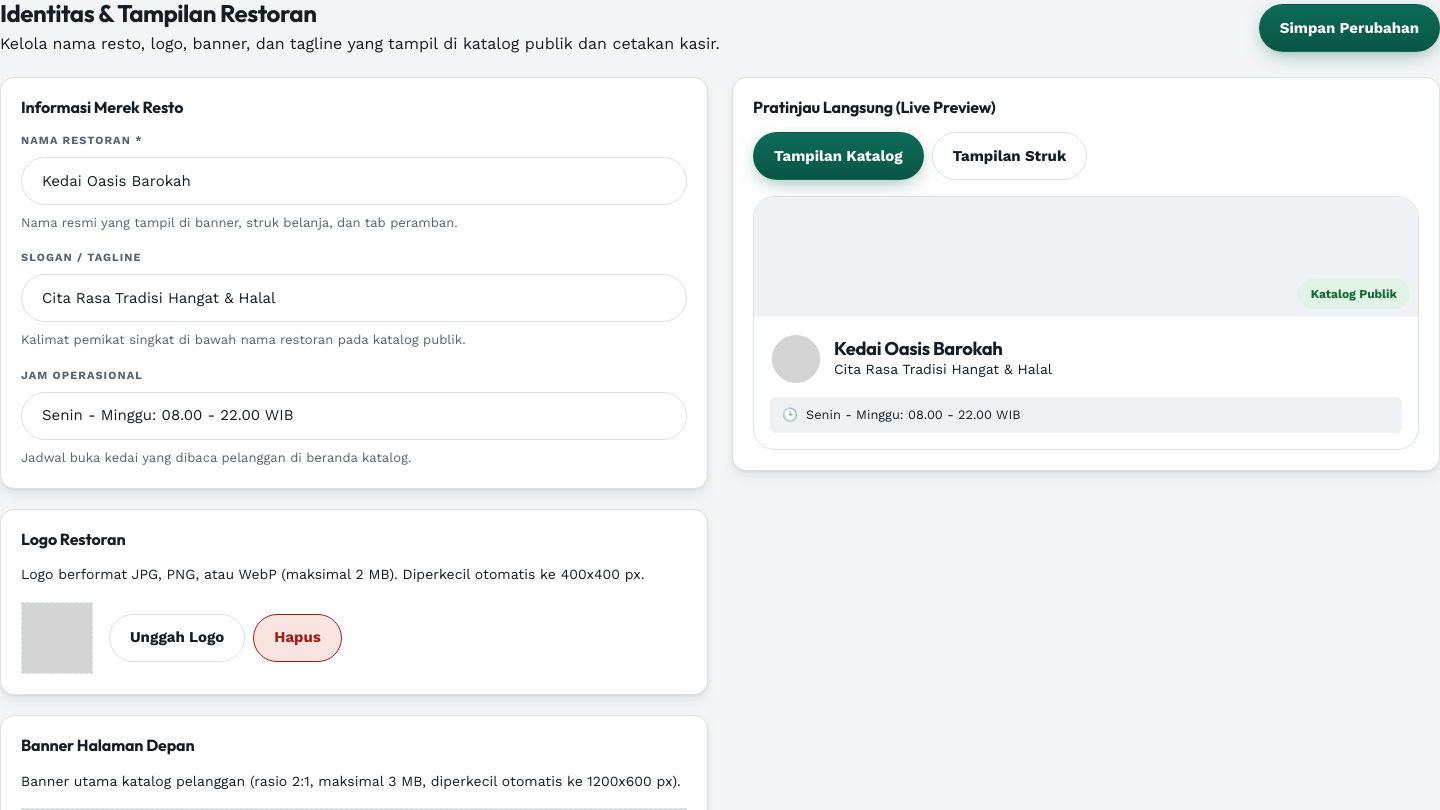
Test case: Identitas (Pengaturan Identitas & Tampilan Resto — T9-01) › beralih antara pratinjau katalog dan pratinjau struk
Expected: the element with test id "wadah-pratinjau-katalog" is shown, [753,196,1419,450]
Expected: the heading with test id "teks-nama-pratinjau" reads "Kedai Oasis Barokah", [834,337,1002,360]
Pindah ke pratinjau struk
Step 1. Click the button with aria-label "beralih ke pratinjau cetak struk" → (1009, 156), box [932,132,1087,180]
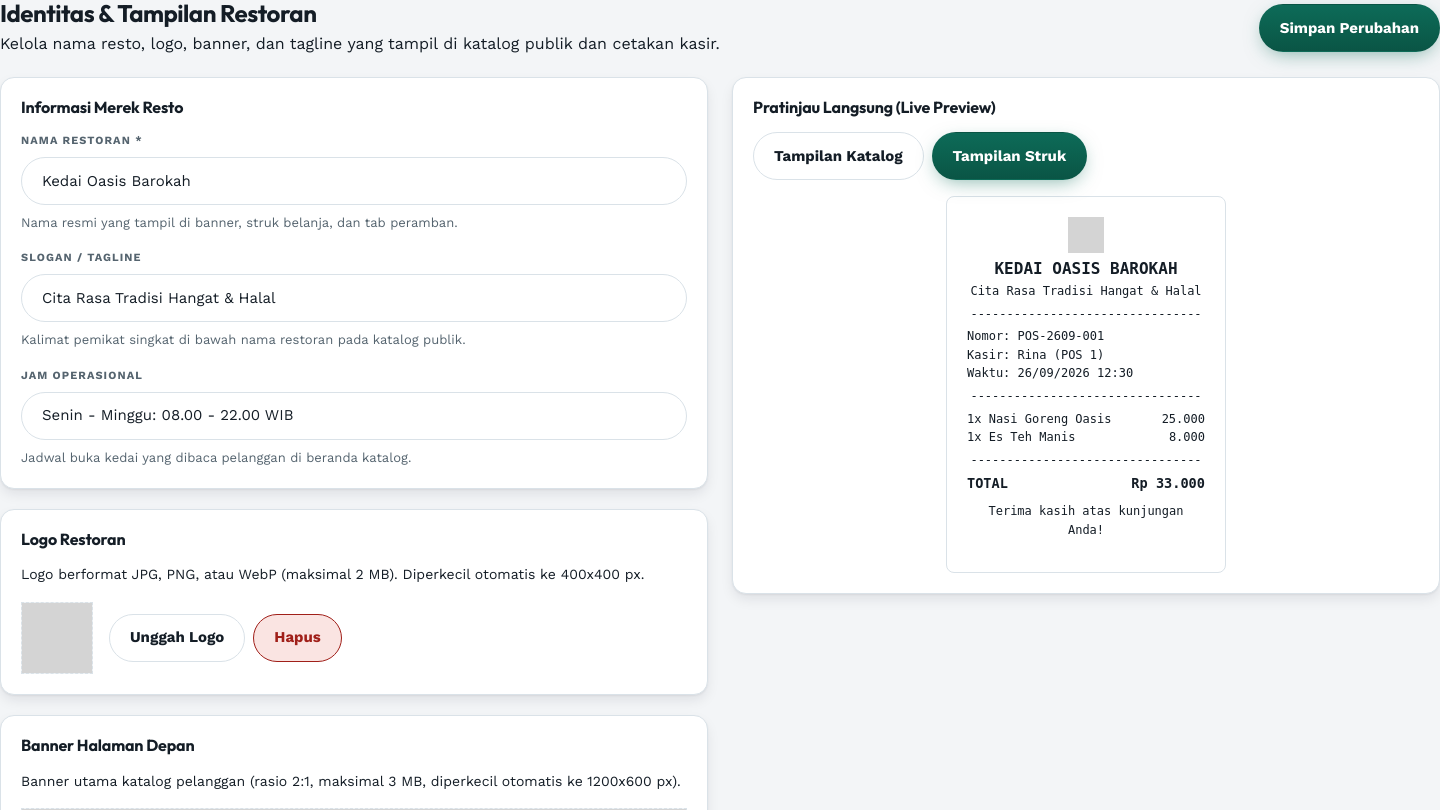
Expected: the text with test id "struk-nama-resto" reads "KEDAI OASIS BAROKAH", [994,259,1178,278]
Now the element with test id "wadah-pratinjau-struk" is shown, box [946,196,1226,573]
Pindah kembali ke katalog
Step 2. Click the button with aria-label "beralih ke pratinjau katalog" → (838, 156), box [753,132,924,180]
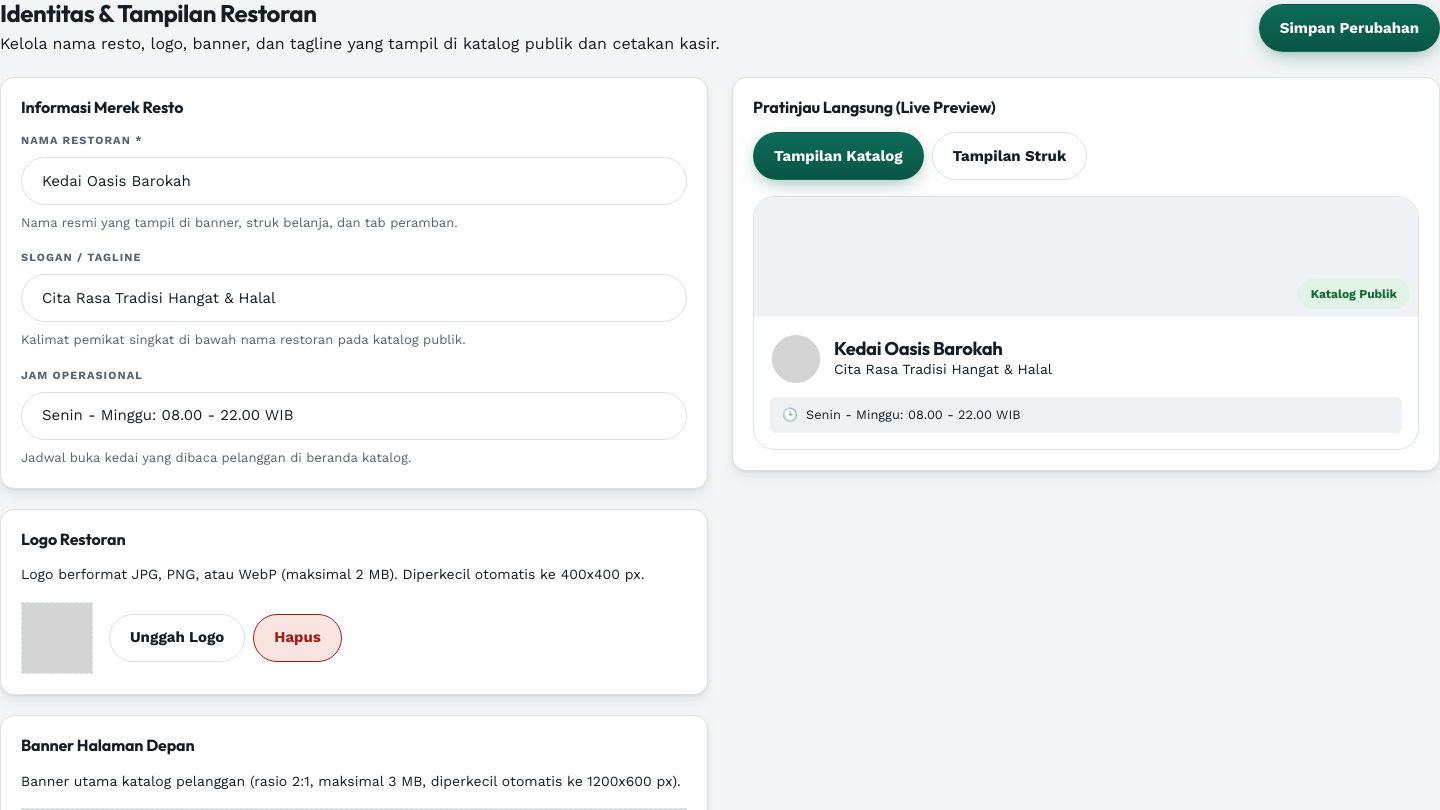
Now the element with test id "wadah-pratinjau-katalog" is shown, box [753,196,1419,450]
